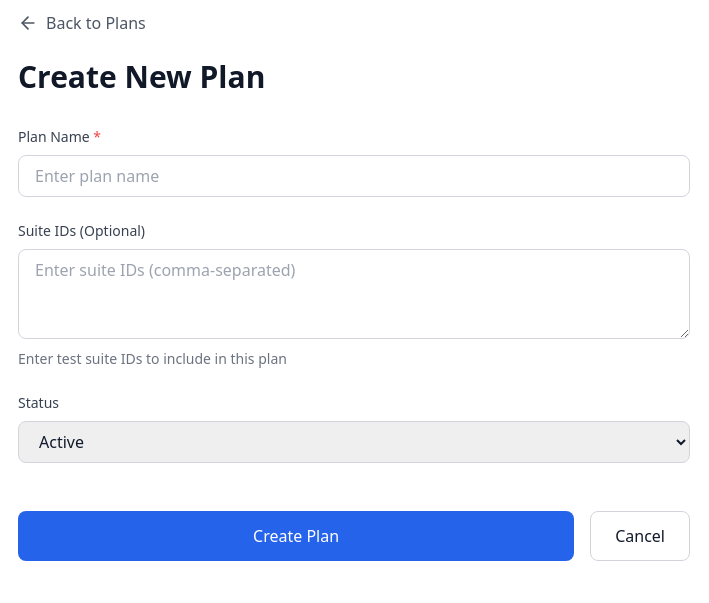
Test: PlanForm › Validation › should clear error when field is corrected
The image size is (709, 603).
Check: the heading "Create New Plan" is shown, box x1=18 y1=56 x2=265 y2=97
Click the button "Create Plan" at (296, 536), box x1=18 y1=511 x2=574 y2=561
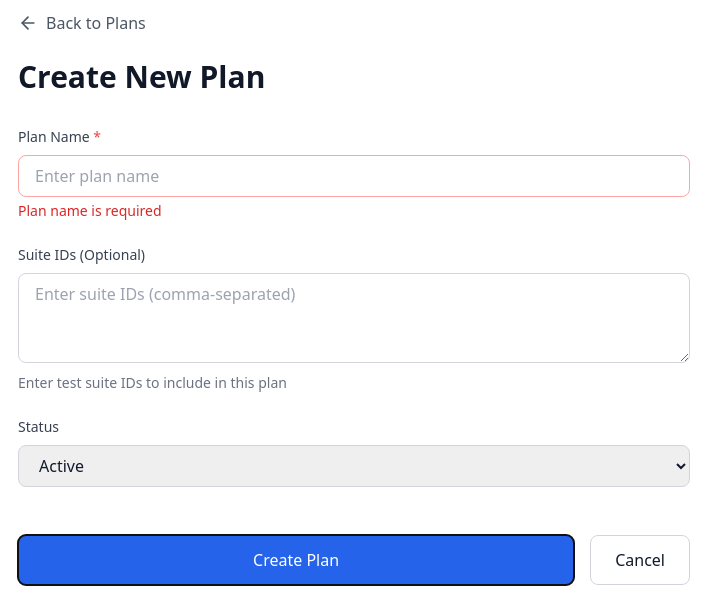
Check: the text "Plan name is required" is shown, box x1=18 y1=201 x2=162 y2=220
Type "Valid Name" into the field labelled "Plan Name *" at (354, 176), box x1=18 y1=155 x2=690 y2=197
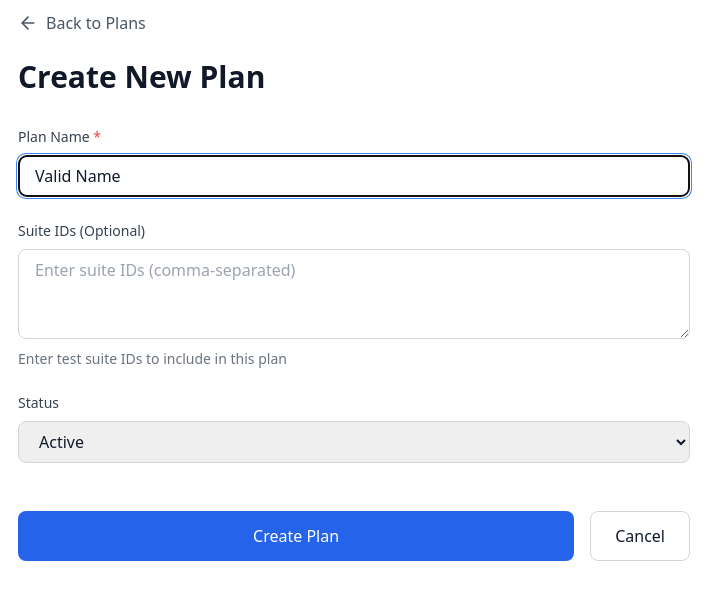
Check: the text "Plan name is required" is gone
